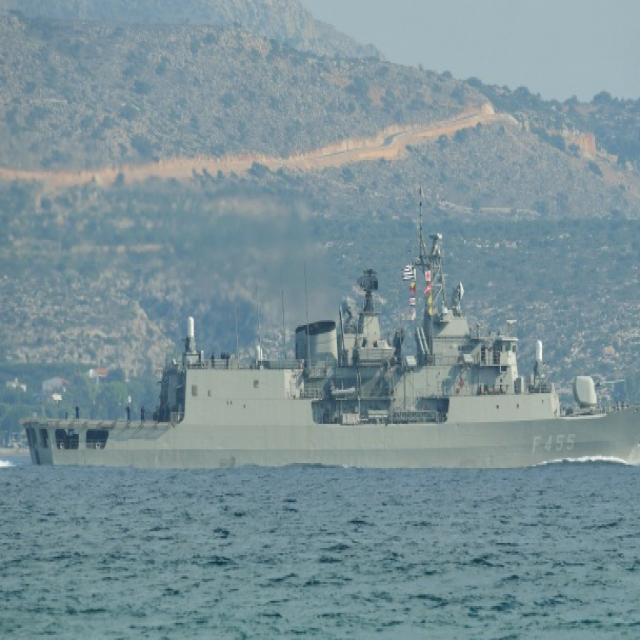Fragata: (20, 188, 640, 478)
